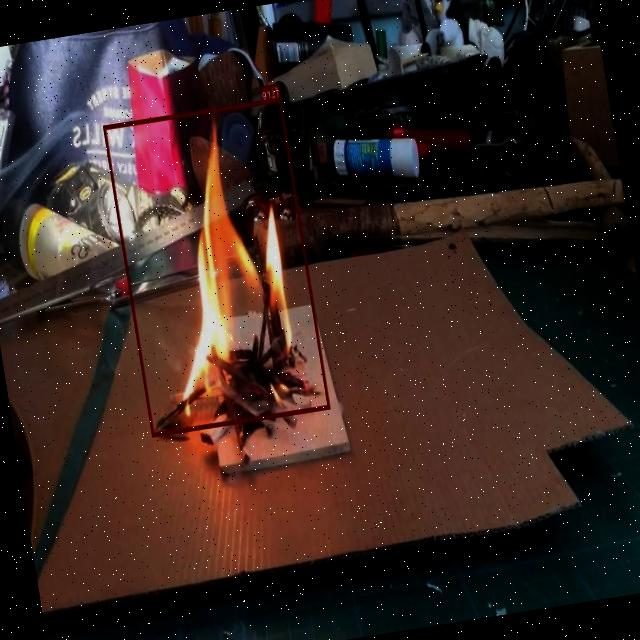fire: (104, 98, 331, 436)
